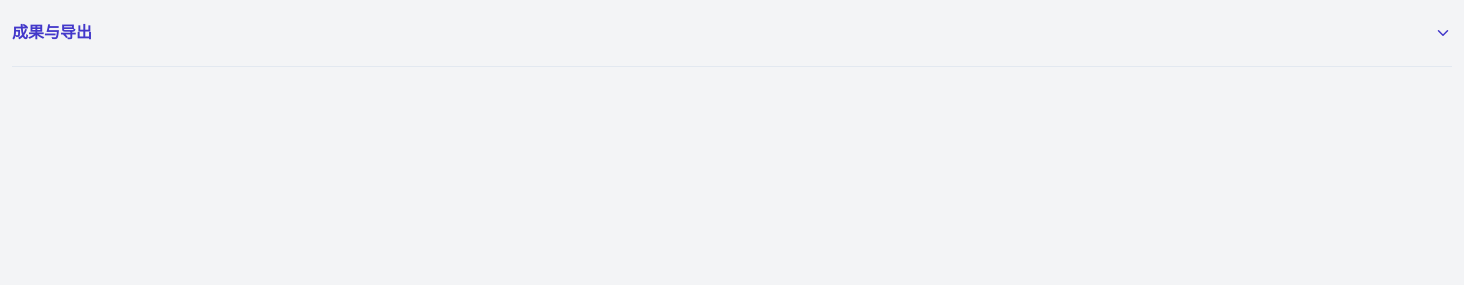
aborts in-flight polling on class switch and ignores late results
Earlier steps of the test are not shown.
Click the button "成果与导出" at (52, 32), box [12,12,1452,54]
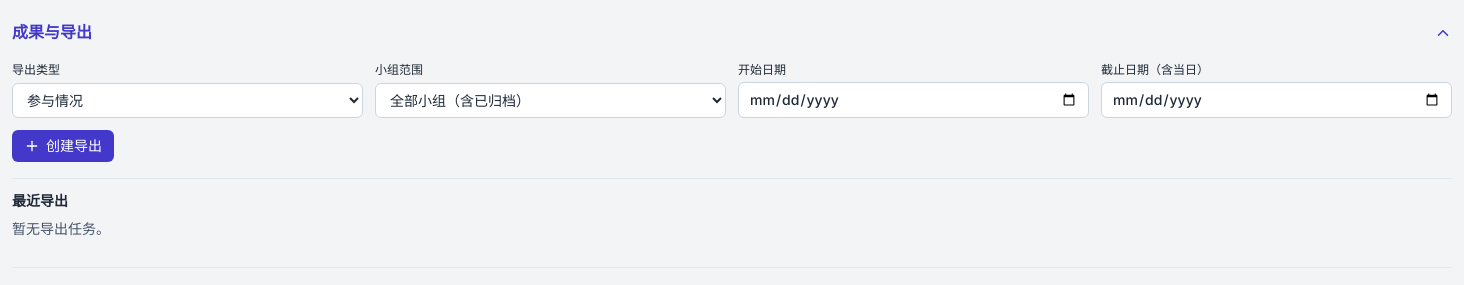
Check: the text "暂无导出任务。" is shown, box [12,220,110,237]
